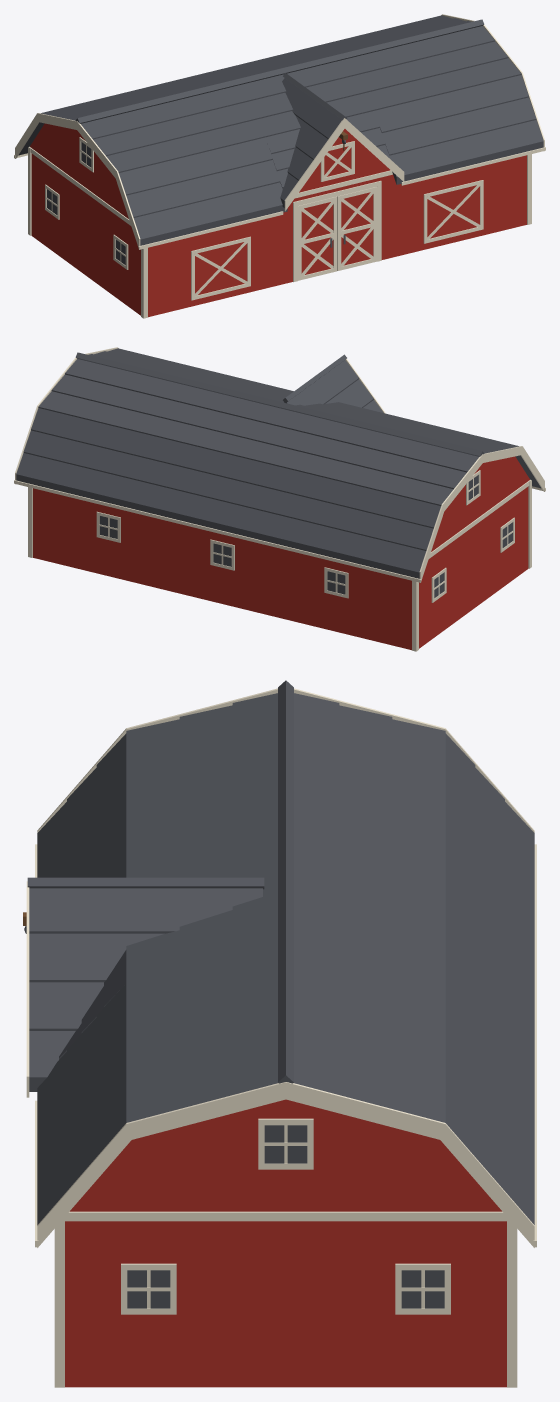
Rendered from barn.glb.
3 renders of one model, top to bottom at view 1: azimuth 30°, elevation 25°; view 2: azimuth 150°, elevation 25°; view 3: azimuth 270°, elevation 25°, orthographic. The views are drawn at different scales.
Visible parts, largest first — view 1: roof_main_R, roof_main_L, front_L, front_R, roof_main_M, side_R_wall, gable_R, crossgable_roof_R, ridge_cap, leaf_L, leaf_R, rake_R (+14 smaller); view 2: back_wall, roof_main_R, roof_main_L, roof_main_M, side_R_wall, gable_R, ridge_cap, crossgable_roof_R, fascia_back, rake_R, band_R, corner_BR (+2 smaller); view 3: roof_main_L, side_L_wall, roof_main_R, roof_main_M, gable_L, crossgable_roof_L, rake_L, ridge_cap, band_L, crossgable_cap, rake_R, corner_FL (+6 smaller).
Part boxes in pixels (<box>): roof_main_R: <box>18,78,287,245</box>; roof_main_L: <box>295,15,543,184</box>; front_L: <box>376,155,526,259</box>; front_R: <box>148,198,297,317</box>; roof_main_M: <box>186,51,390,188</box>; side_R_wall: <box>32,149,140,315</box>; gable_R: <box>30,123,128,218</box>; crossgable_roof_R: <box>280,78,341,207</box>; ridge_cap: <box>75,19,484,123</box>; leaf_L: <box>341,192,373,265</box>; leaf_R: <box>301,202,333,274</box>; rake_R: <box>15,113,140,249</box>; back_wall: <box>33,488,411,650</box>; roof_main_R: <box>272,411,541,578</box>; roof_main_L: <box>16,348,264,516</box>; roof_main_M: <box>163,384,373,542</box>; side_R_wall: <box>419,482,527,648</box>; gable_R: <box>431,456,529,551</box>; ridge_cap: <box>75,352,484,456</box>; crossgable_roof_R: <box>286,360,383,412</box>; fascia_back: <box>14,480,421,582</box>; rake_R: <box>419,446,544,582</box>; band_R: <box>429,481,529,558</box>; corner_BR: <box>412,581,418,651</box>; roof_main_L: <box>37,943,534,1224</box>; side_L_wall: <box>69,1211,502,1387</box>; roof_main_R: <box>37,693,534,976</box>; roof_main_M: <box>59,837,534,1082</box>; gable_L: <box>70,1099,501,1210</box>; crossgable_roof_L: <box>29,888,262,1091</box>; rake_L: <box>37,1082,534,1247</box>; ridge_cap: <box>278,680,293,1083</box>; band_L: <box>65,1211,506,1221</box>; crossgable_cap: <box>27,877,264,889</box>; rake_R: <box>37,688,534,832</box>; corner_FL: <box>54,1217,64,1387</box>.
Size of the model in its own units: 16.43 by 6.2 by 8.99.
